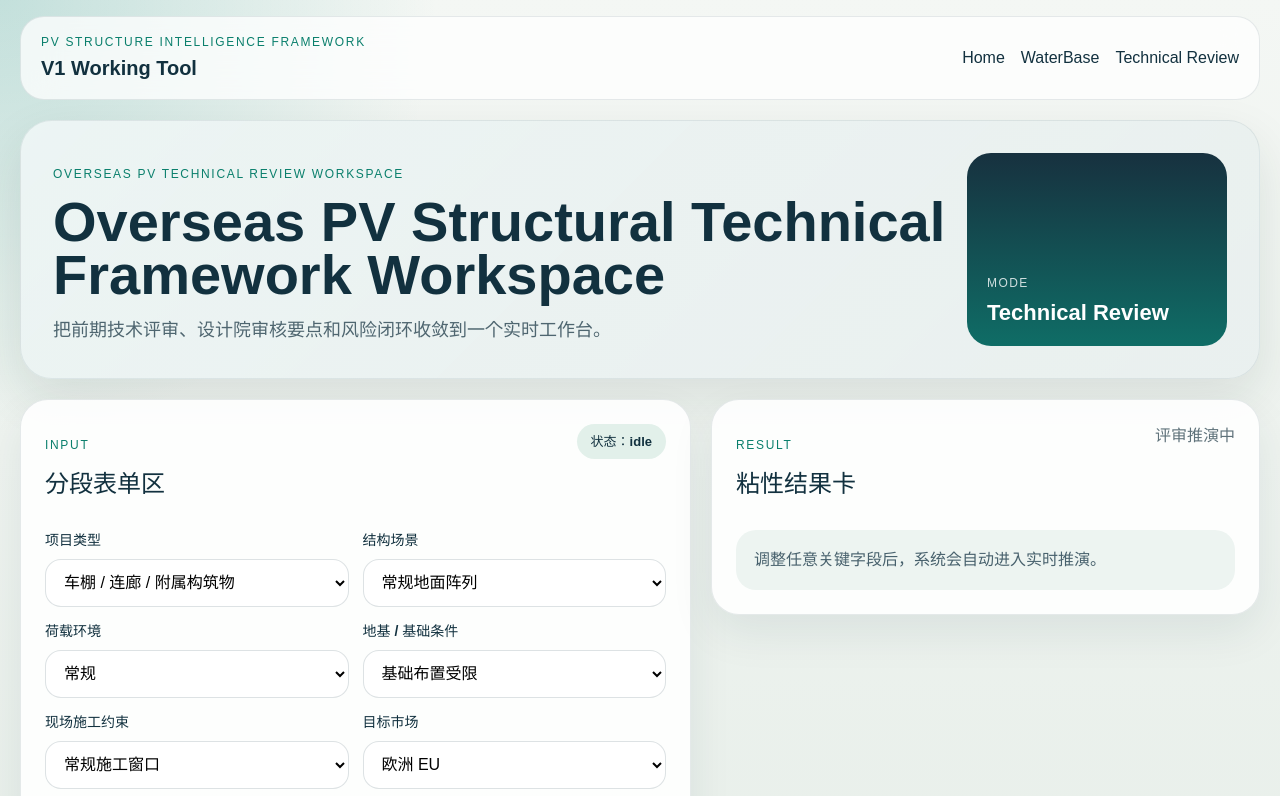
Test: V1 Working Tool App › requires manual override fields before enabling save
The image size is (1280, 796).
Select "既有复杂构筑物" in the dropdown labelled "结构场景" at (514, 583), box [362,559,666,607]
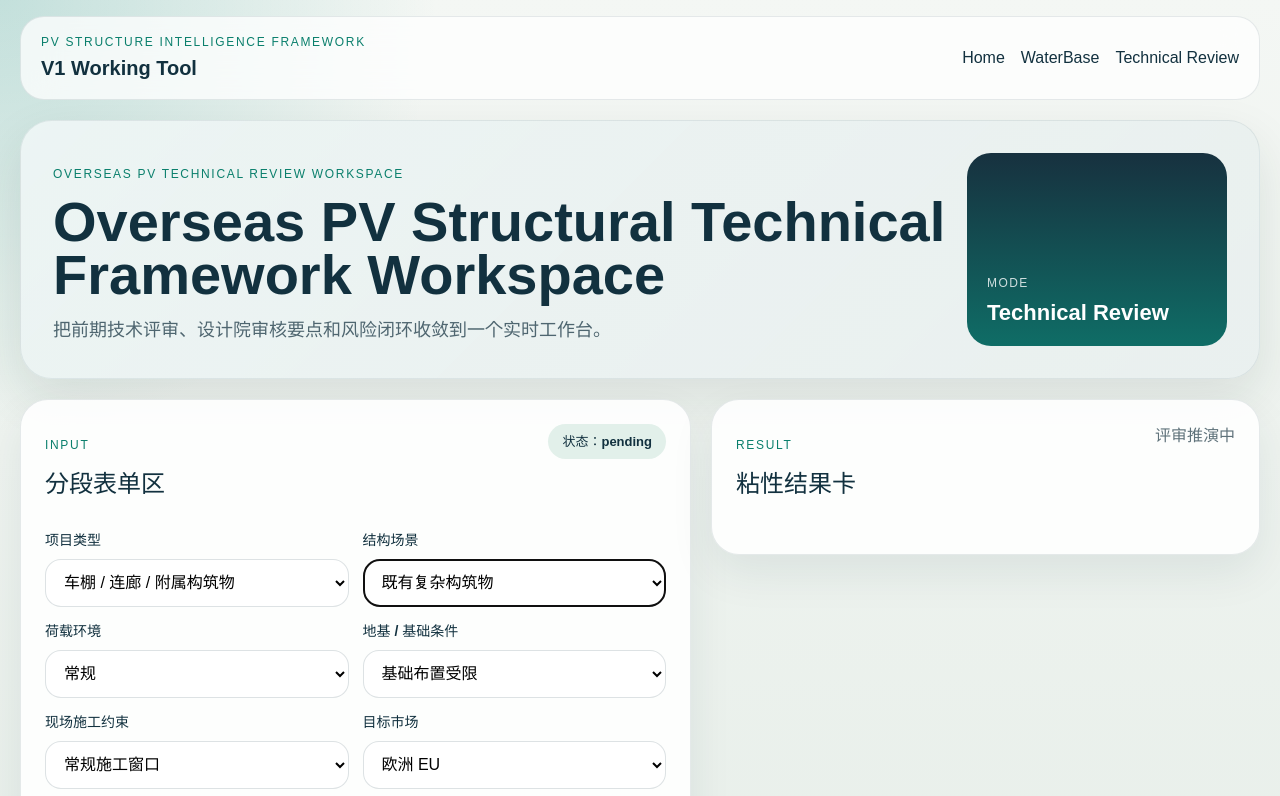
Select "积雪" in the dropdown labelled "荷载环境" at (197, 674), box [45,650,348,698]
(page scrolled)
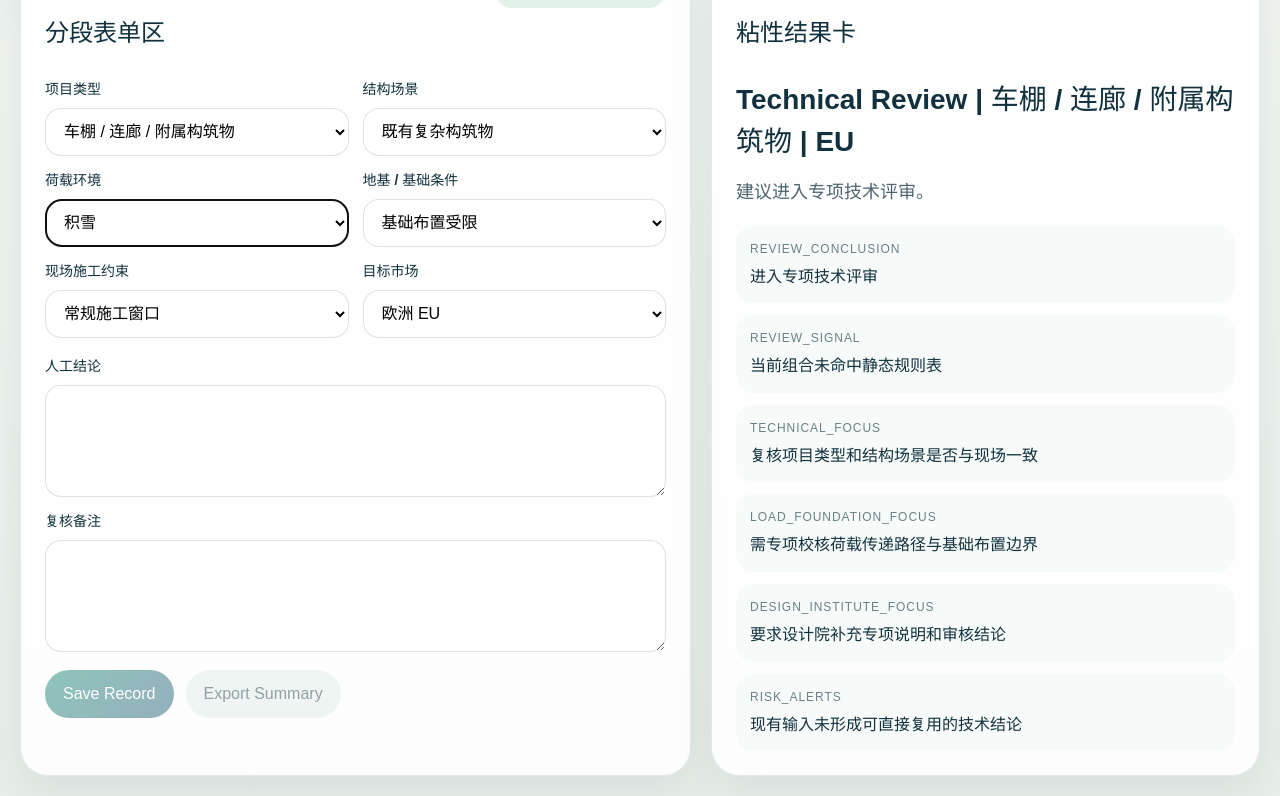
Expected: the button "Save Record" is disabled, [45,670,174,718]
Type "人工复核后建议专项评审" into the text box labelled "人工结论".
click(356, 441); type("人工复核后建议专项评审")  # box [45,385,666,497]
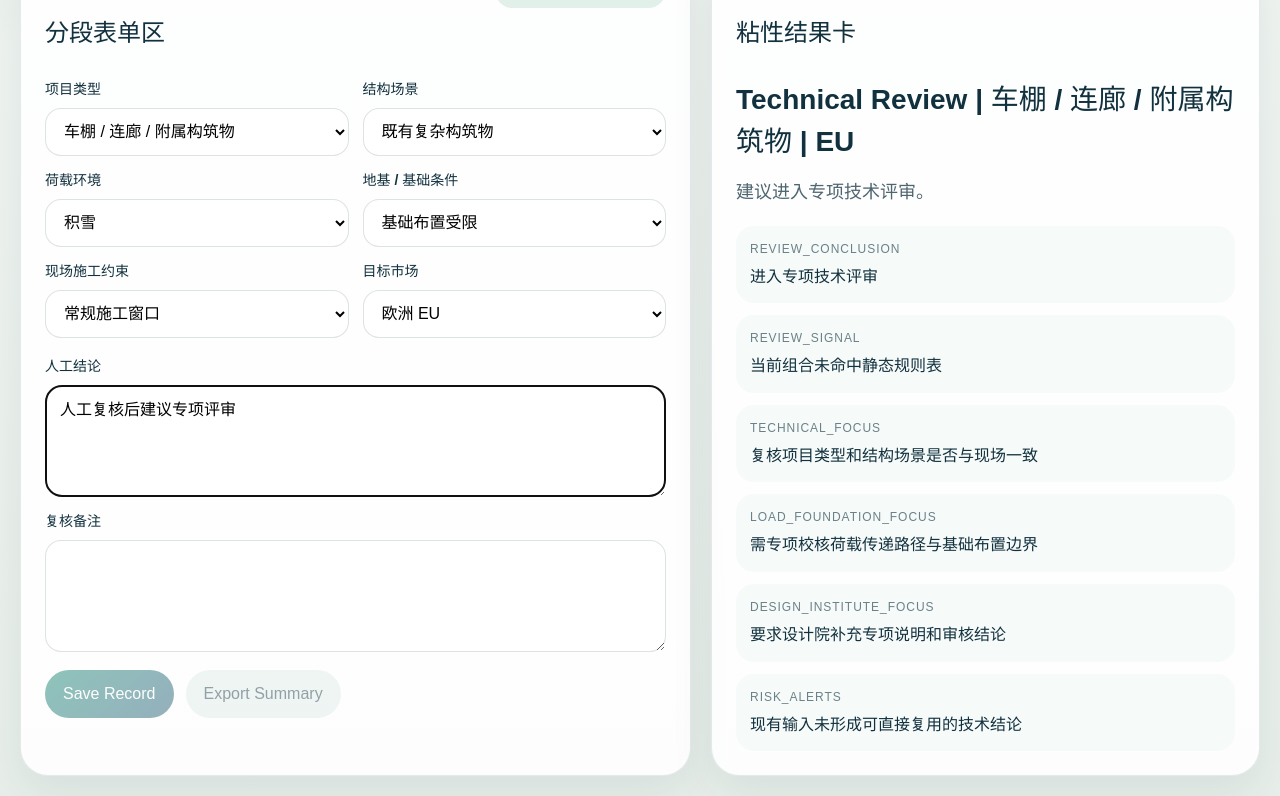
Type "Need local institute confirmation" into the text box labelled "复核备注".
click(356, 596); type("Need local institute confirmation")  # box [45,540,666,652]
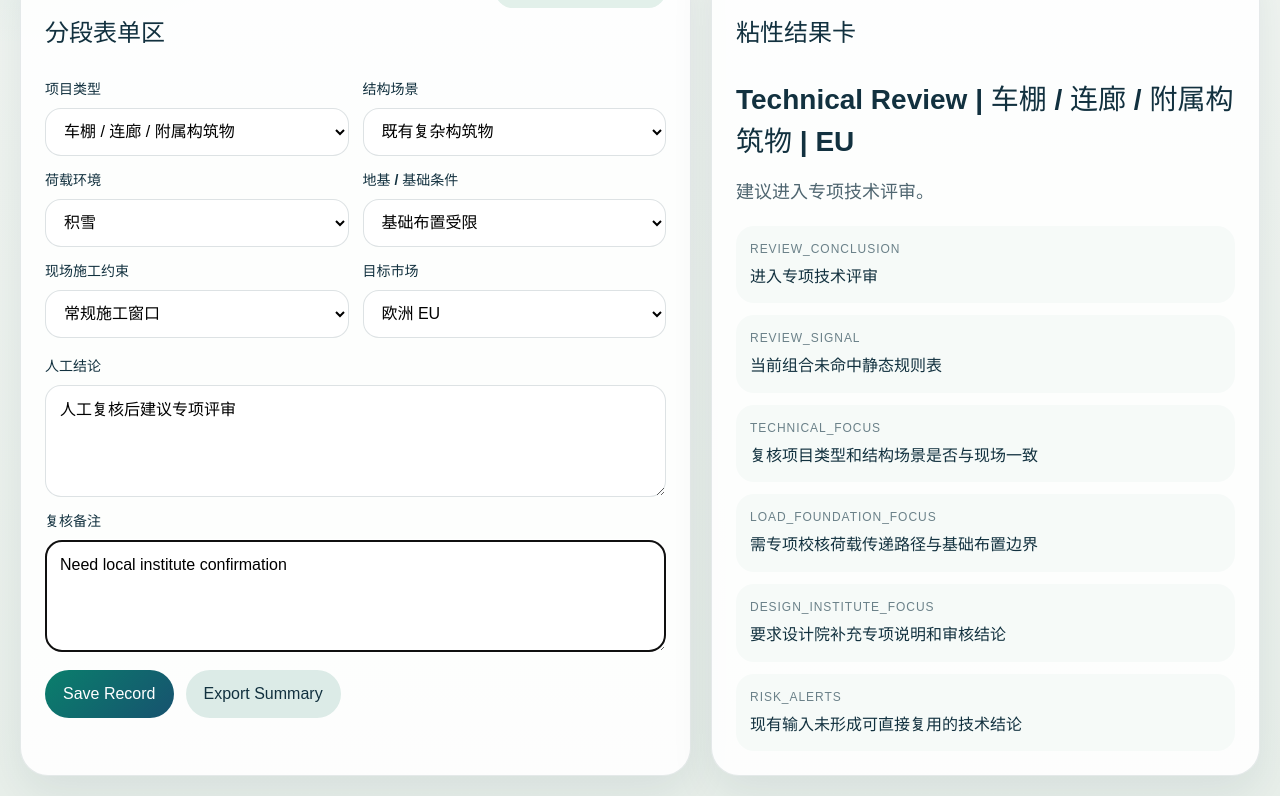
Now the button "Save Record" is enabled, box [45,670,174,718]
